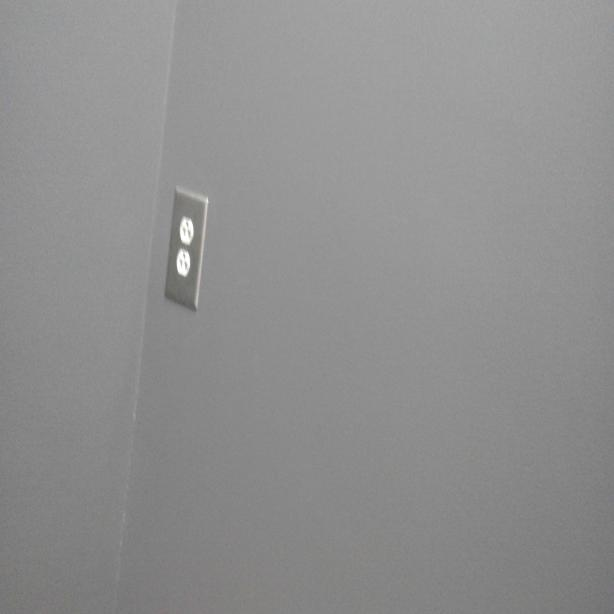typeb: (177, 254, 190, 278), (179, 218, 192, 241)
